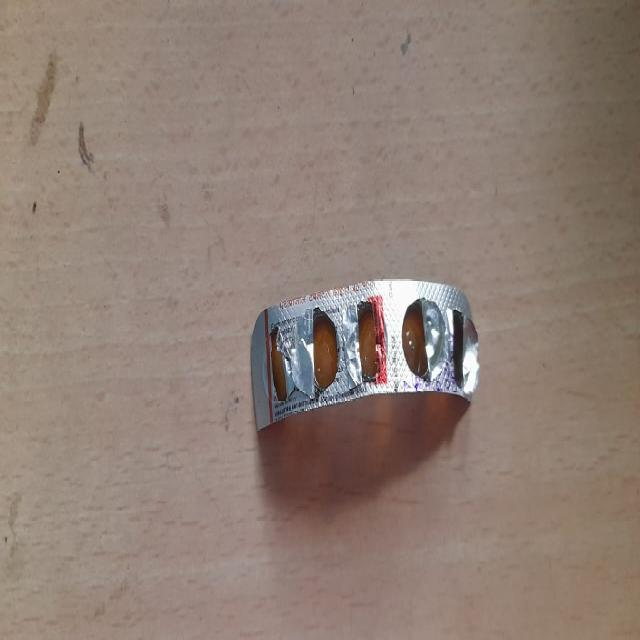Blister_Packs - Non Recyclable: (249, 276, 480, 434)
